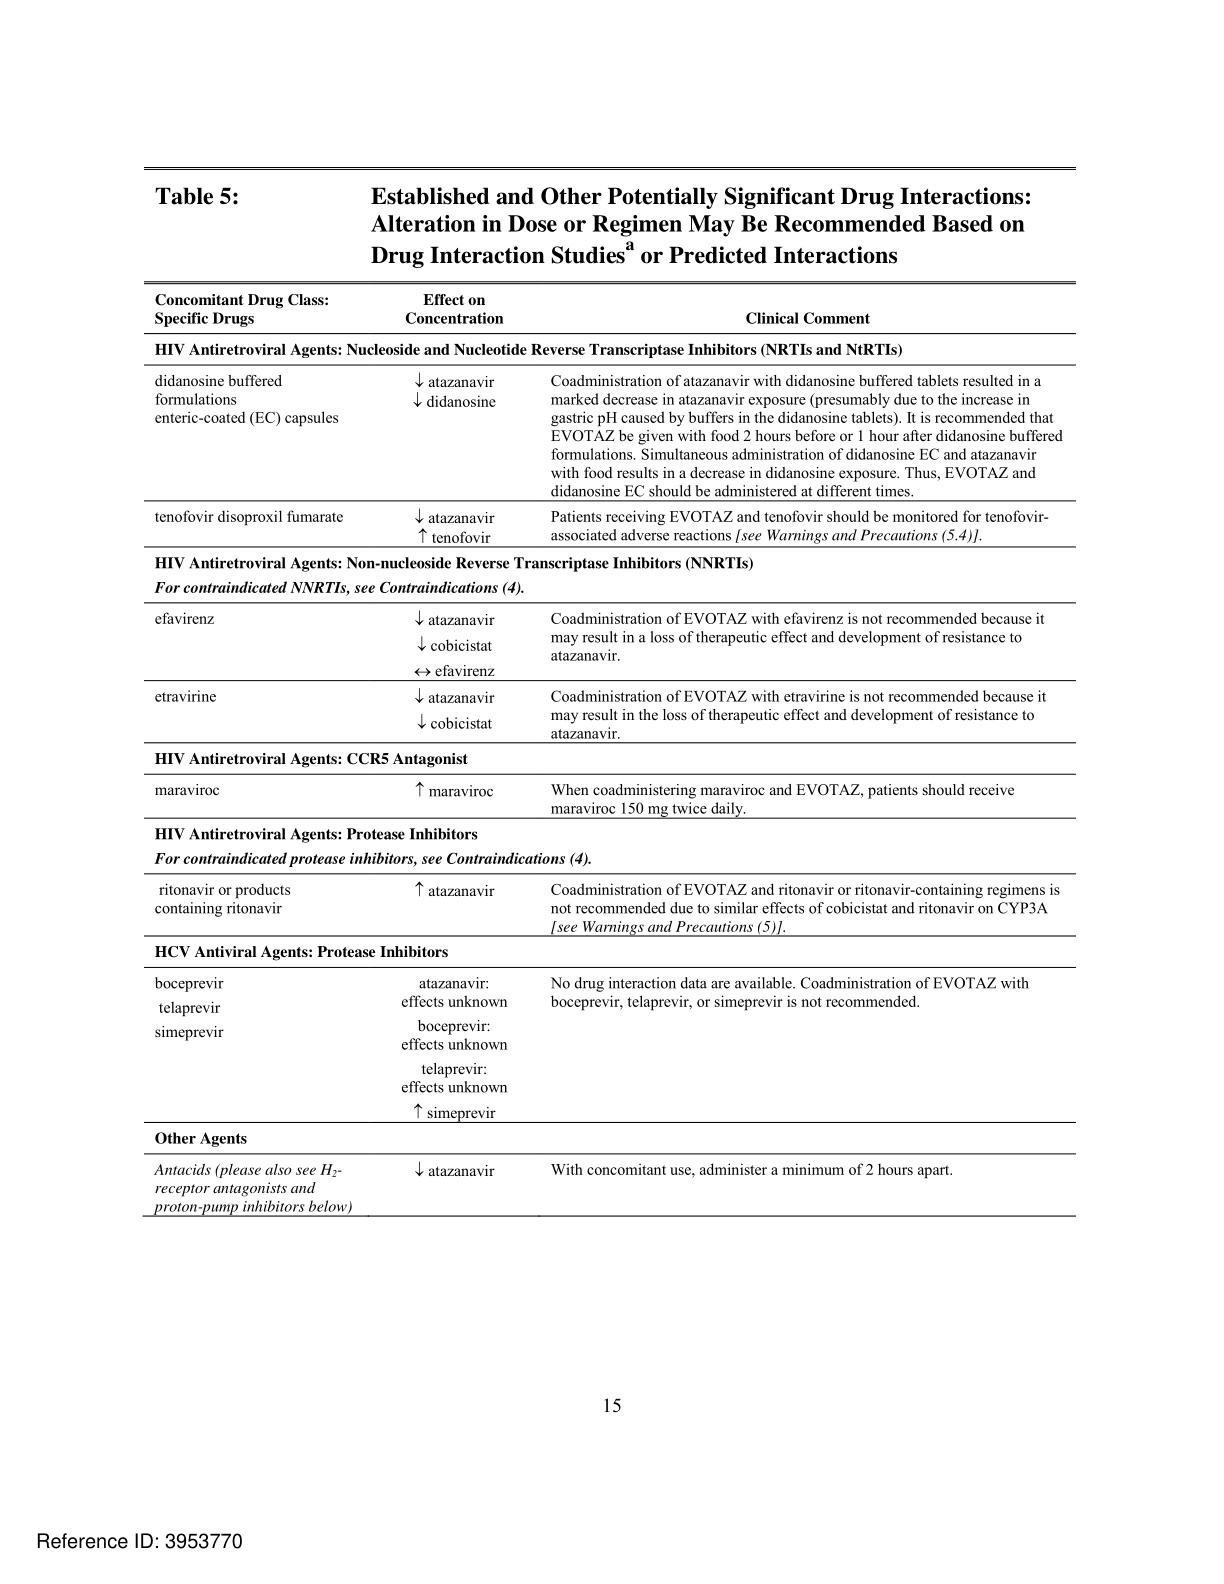partial_lined_merged_cells: (145, 278, 1077, 1218)
